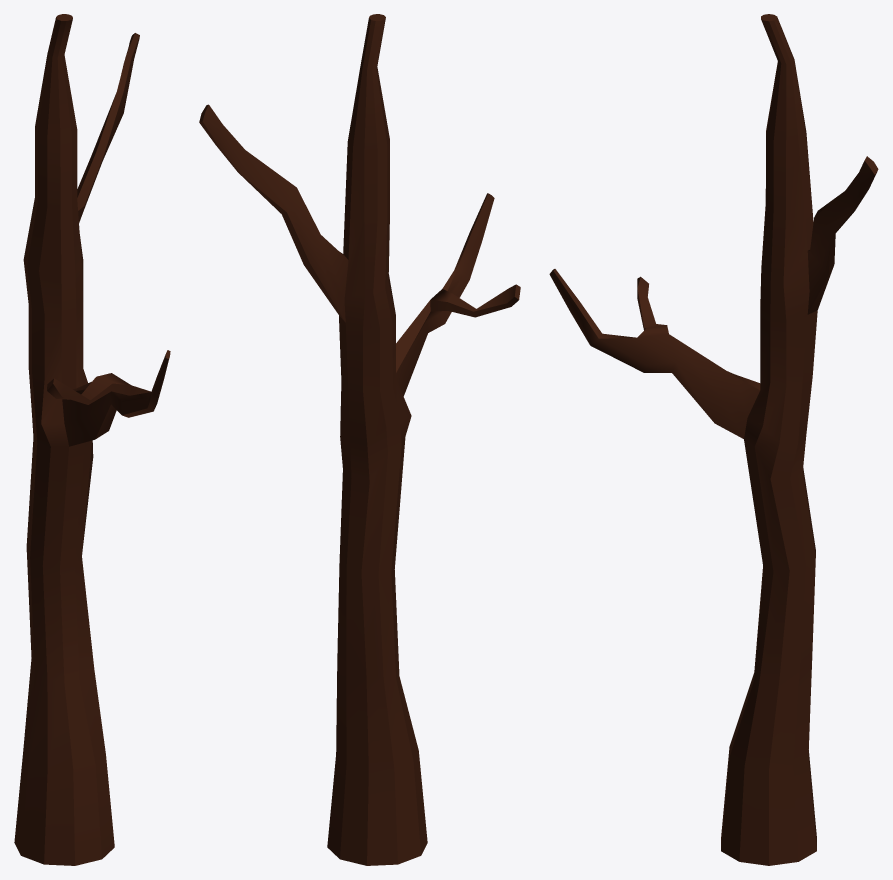
File: tree1.fbx
3 views of the same model, side by side, from view 1: azimuth 30°, elevation 25°; view 2: azimuth 150°, elevation 25°; view 3: azimuth 270°, elevation 25° (orthographic).
Visible parts, largest first — view 1: pCylinder4; view 2: pCylinder4; view 3: pCylinder4.
Part boxes in pixels (bbox=[...]): pCylinder4: bbox=[14, 14, 170, 865]; pCylinder4: bbox=[199, 14, 520, 865]; pCylinder4: bbox=[549, 14, 878, 865].
Bounding box in the file's own units: 22.5 × 87.85 × 31.31.
